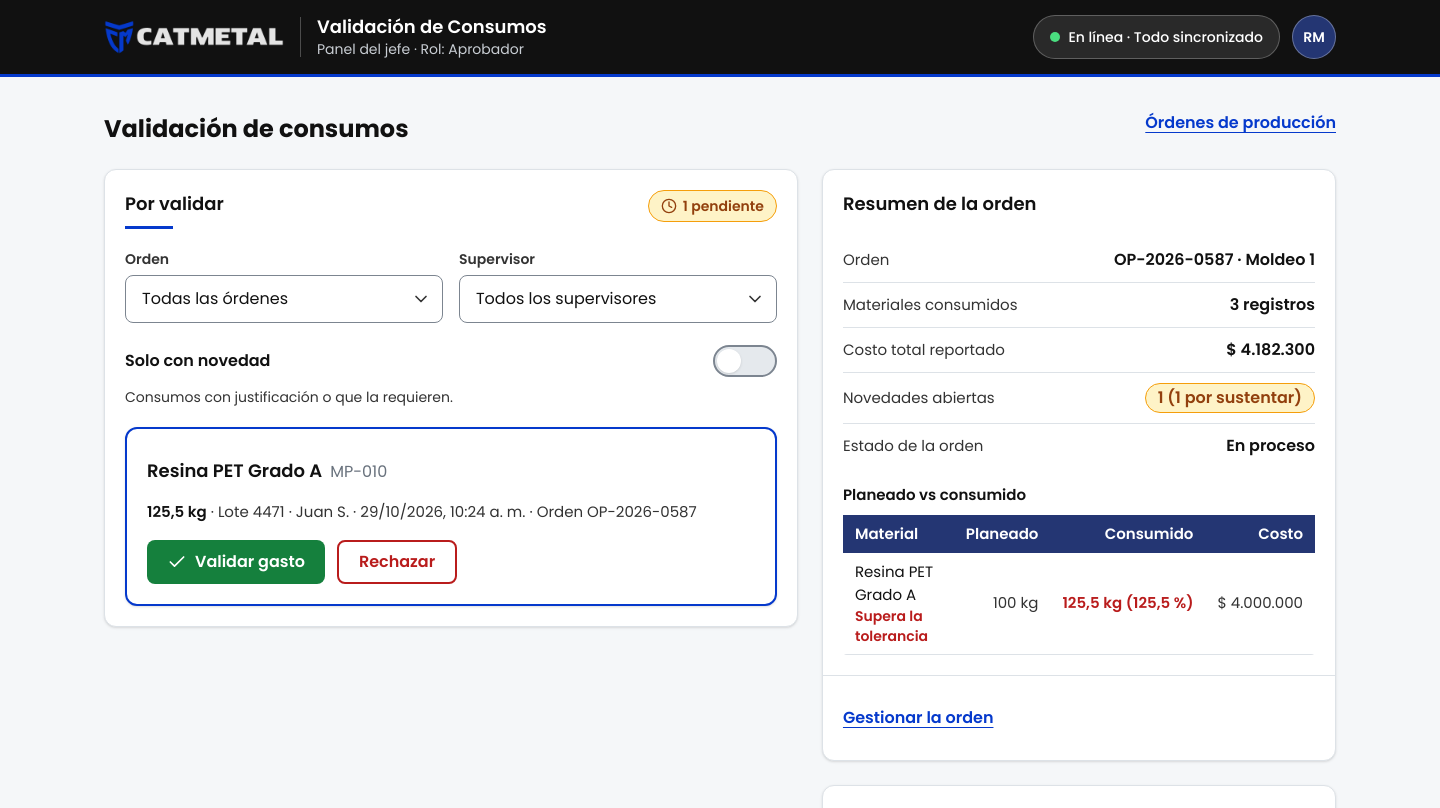
Test: cola de validación › valida con confirmación y envía la versión vista
Click the button with aria-label "Validar gasto de Resina PET Grado A" at (236, 562), box [147,540,325,584]
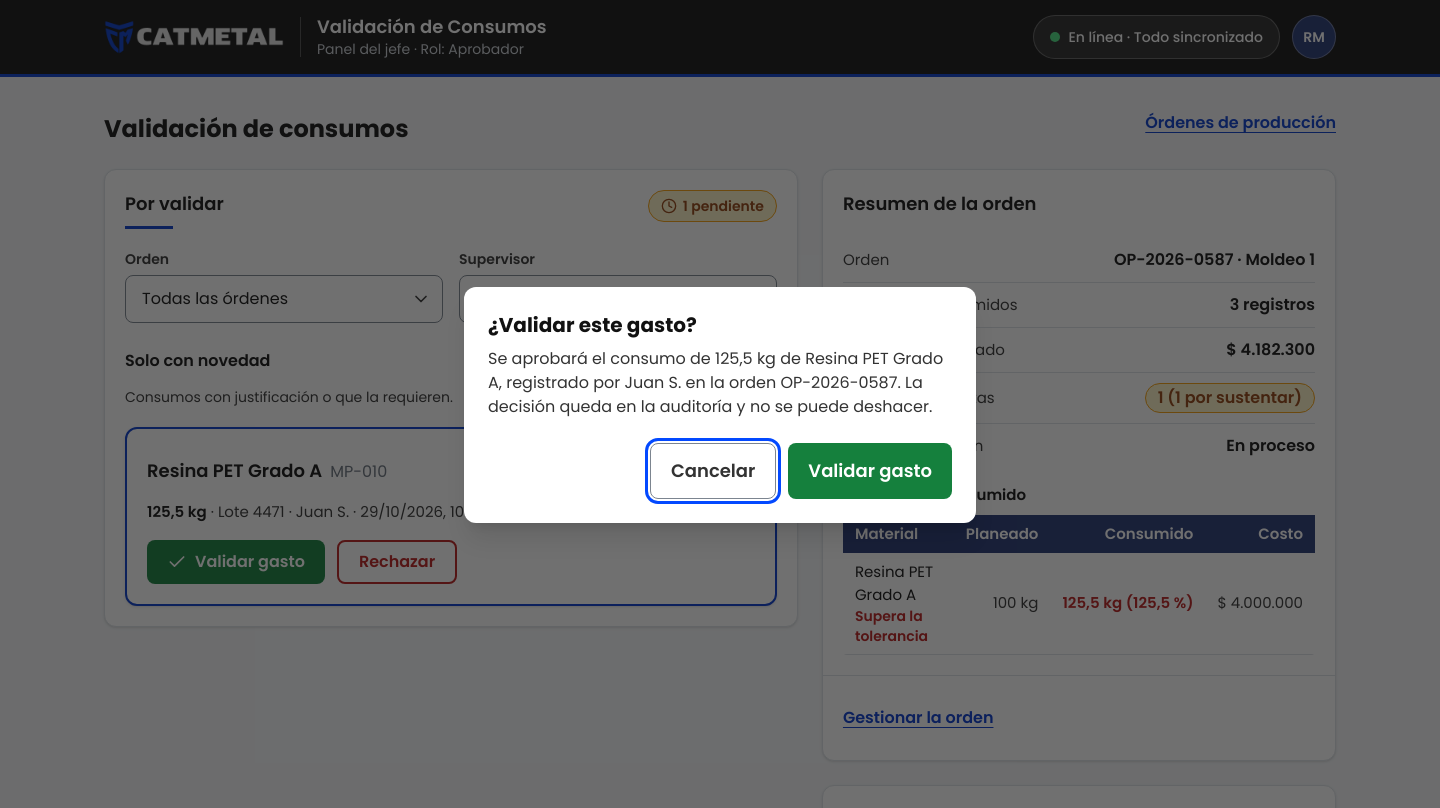
Expected: the dialog "¿Validar este gasto?" shows "125,5 kg de Resina PET Grado A", [488,347,943,418]
Click the button "Validar gasto" at (870, 471), box [788,443,952,499]
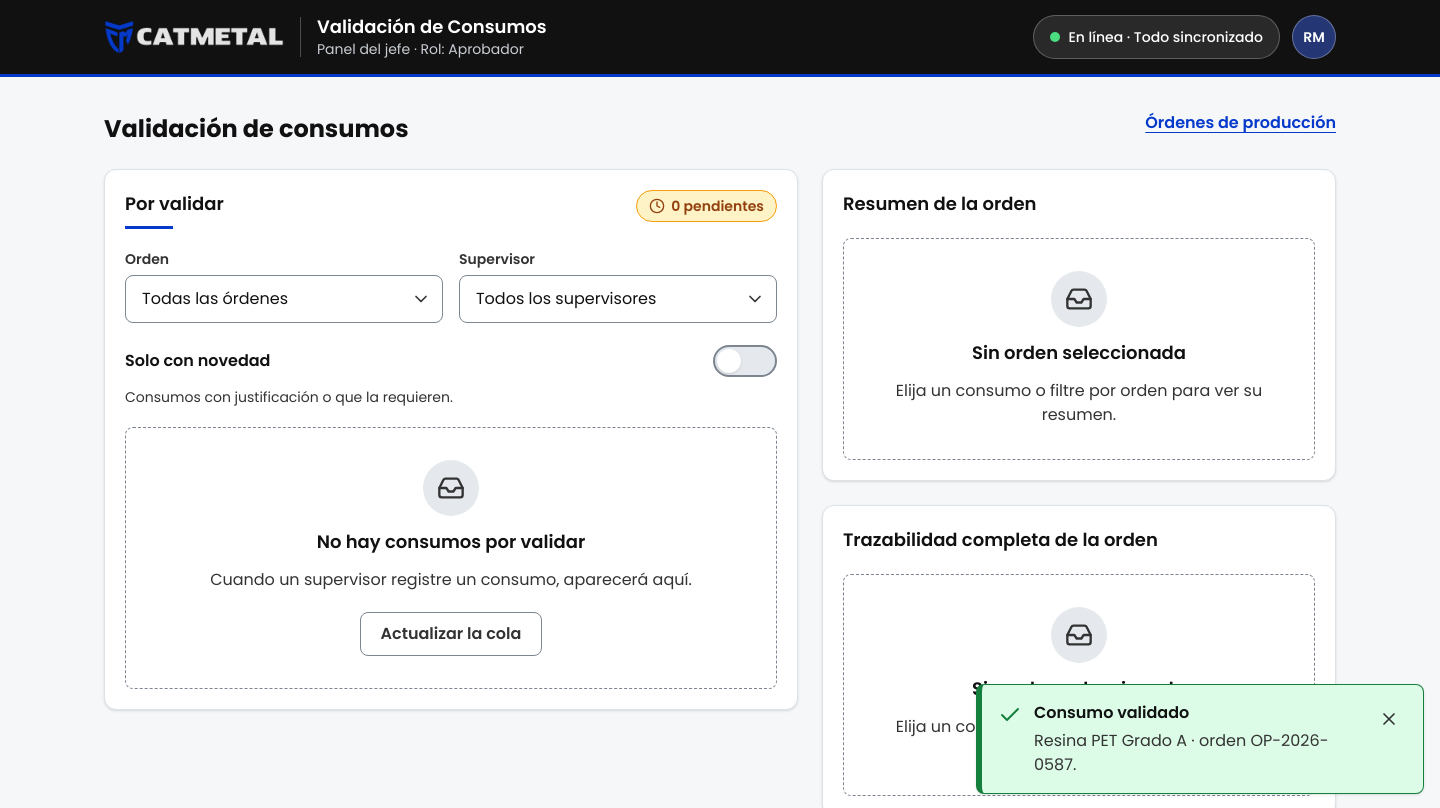
Expected: the text "Consumo validado" is shown, [1033,700,1189,724]
Expected: the heading "No hay consumos por validar" is shown, [317,528,585,556]
